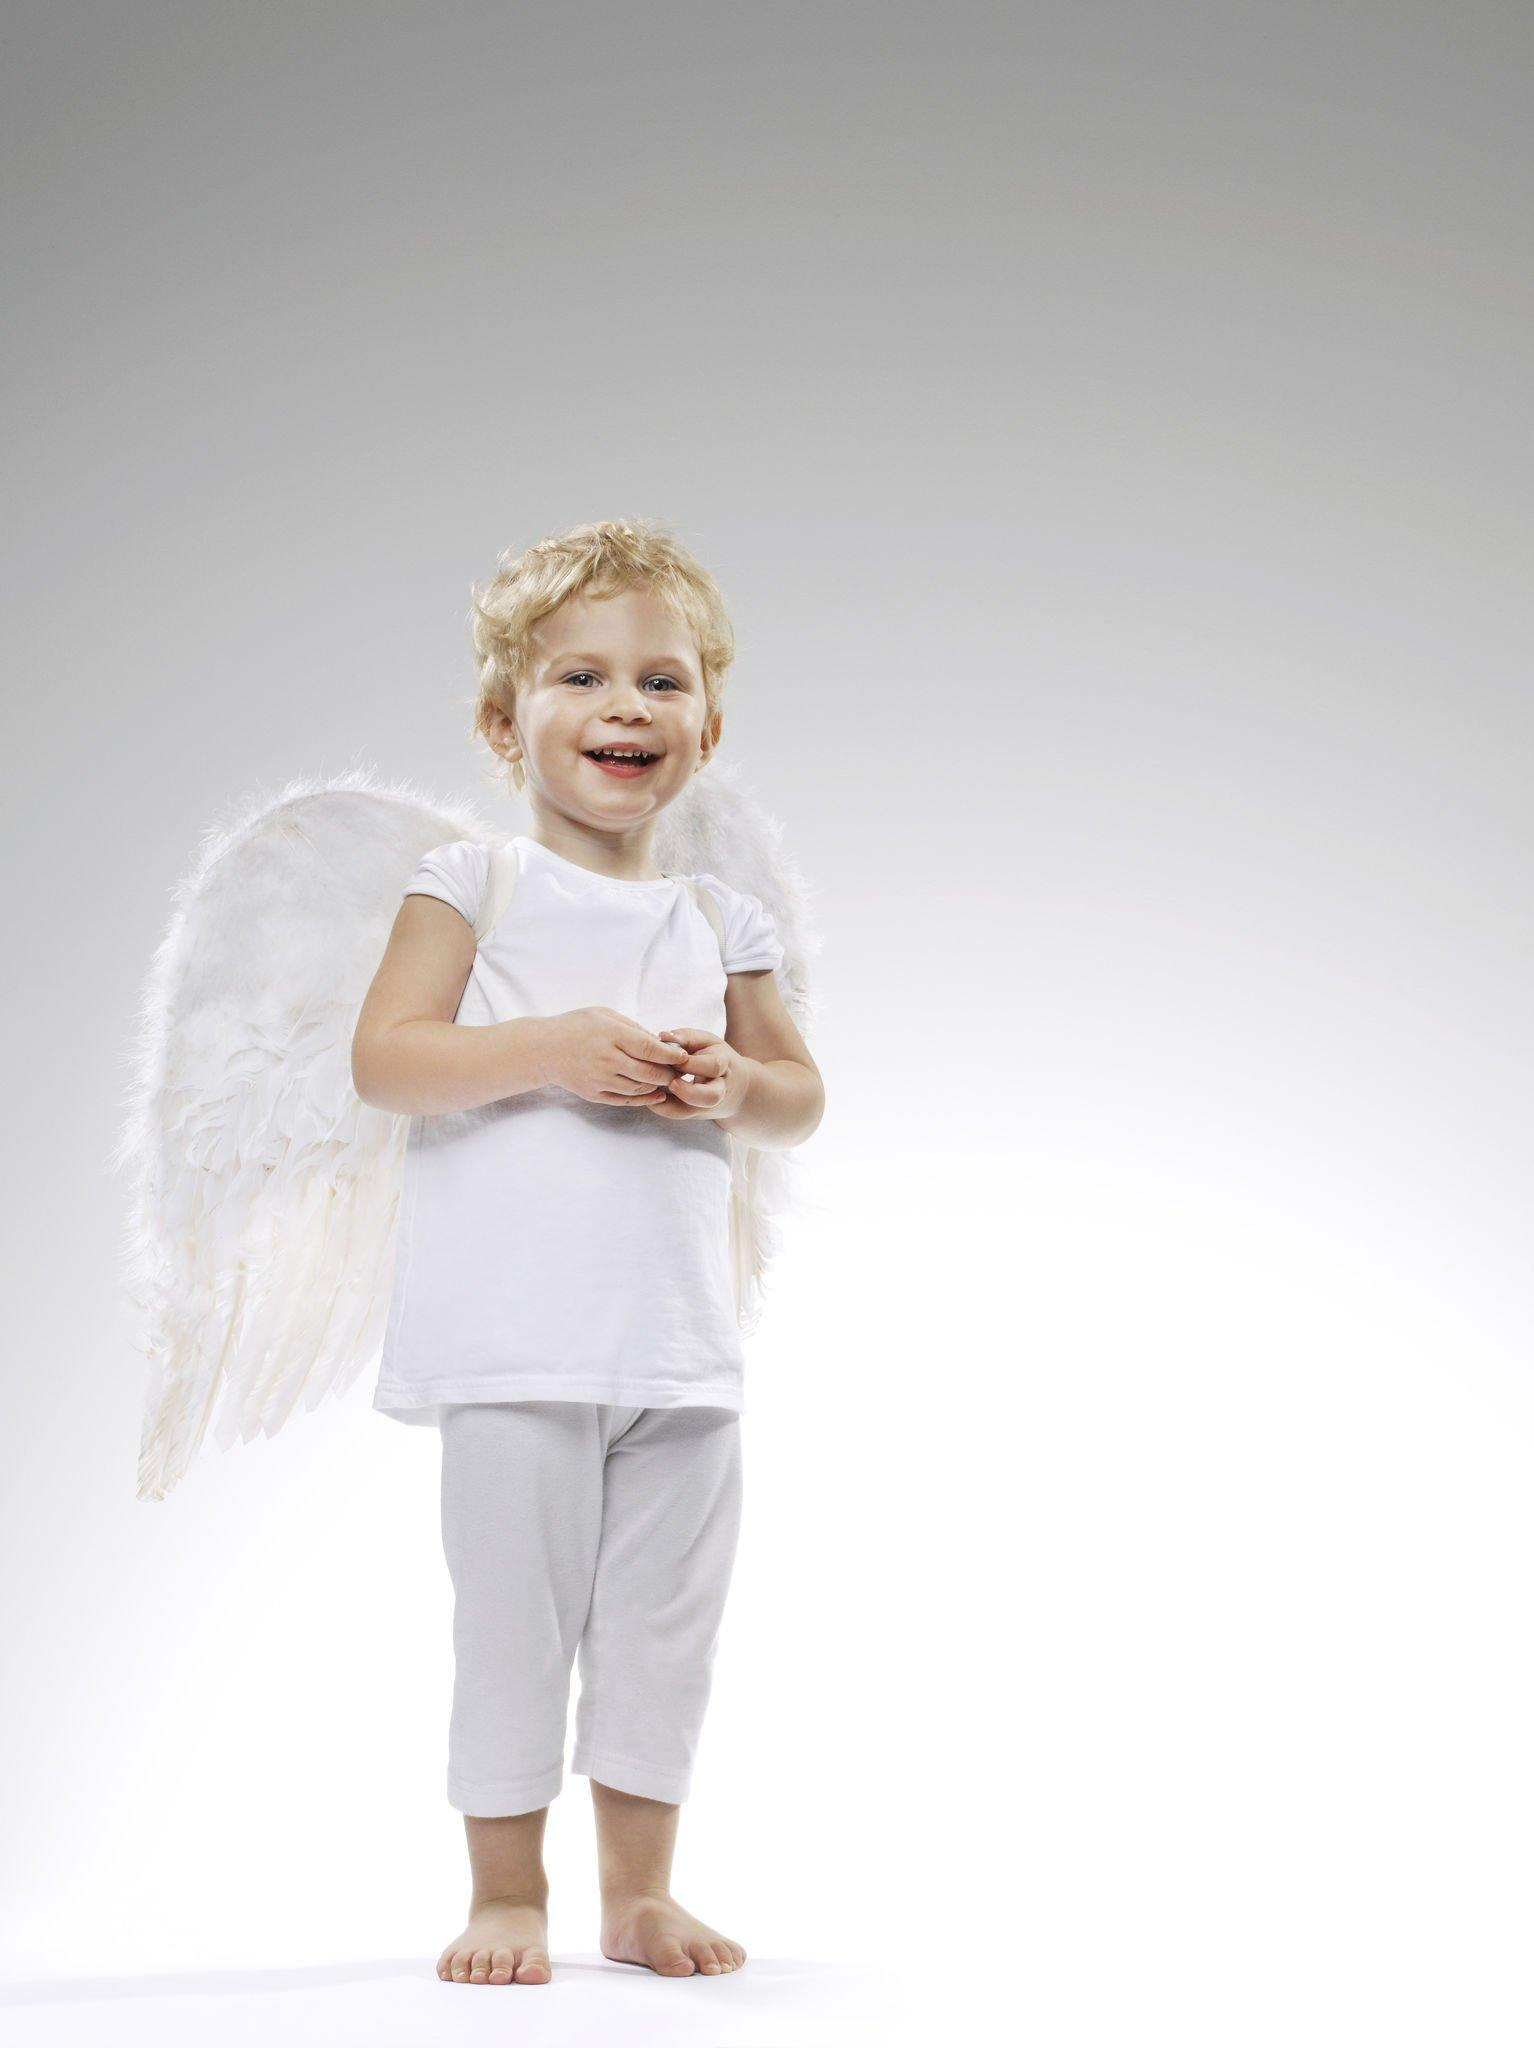Healthy: (487, 541, 732, 859)
